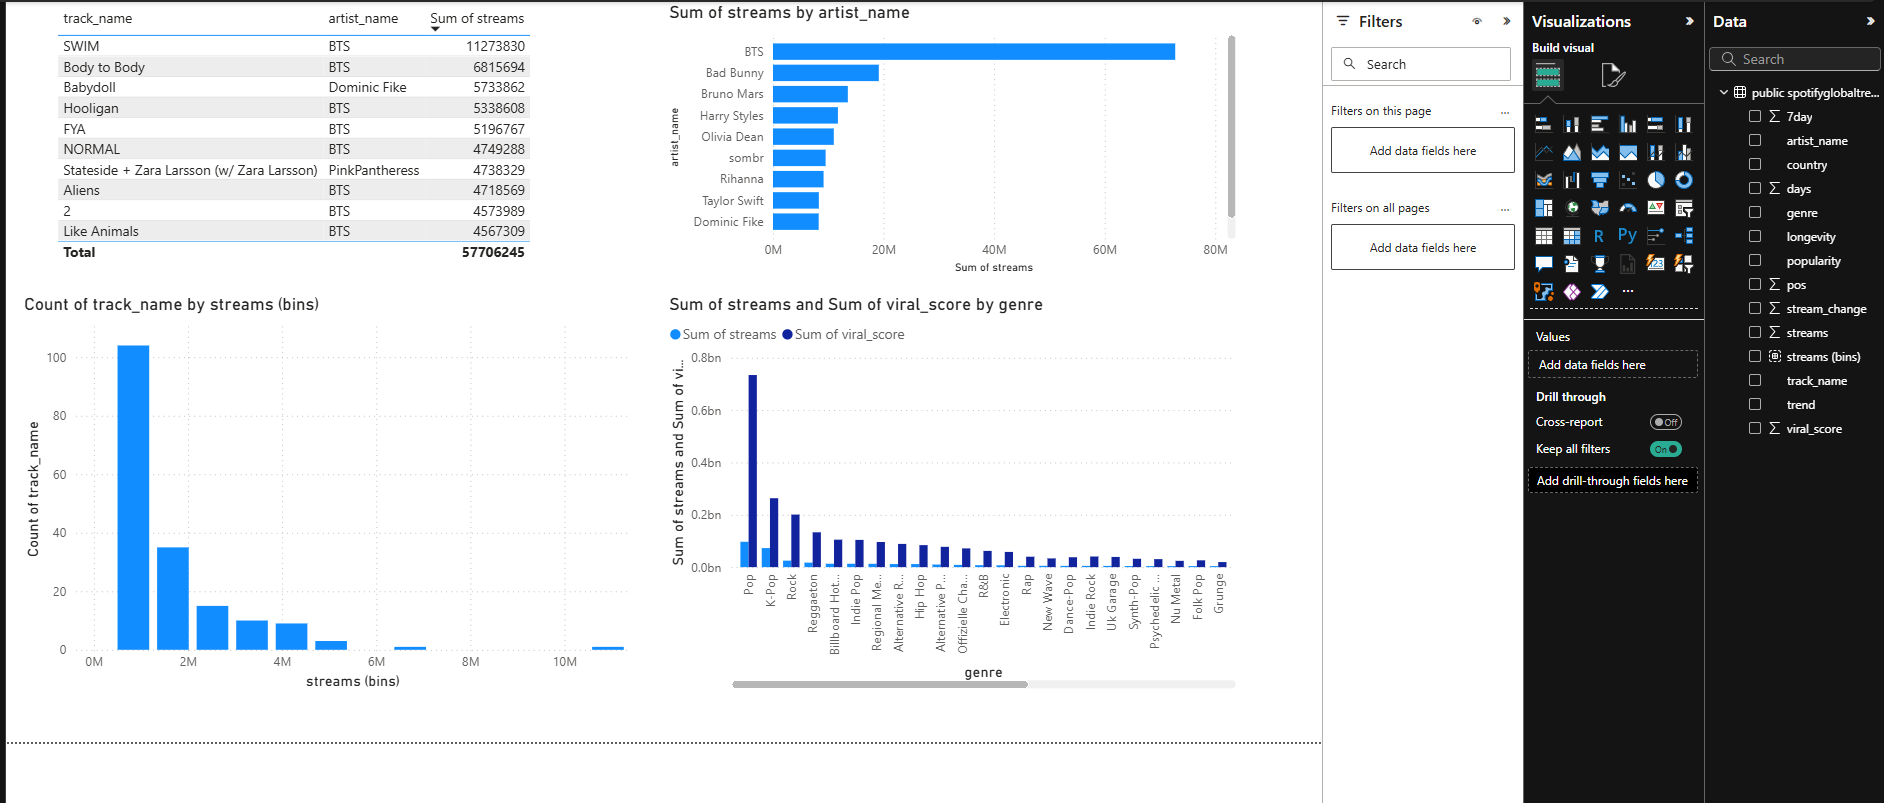

The page's visual inventory and layout, read from the dashboard file:
{"tool":"powerbi","page":{"name":"Page 1","canvas":[1280,720],"ordinal":0},"visuals":[{"type":"tableEx","fields":{"Values":["public spotifyglobaltrends.track_name","public spotifyglobaltrends.artist_name","Sum(public spotifyglobaltrends.streams)"]},"box":[44.7,0,491.2,268.4],"z":0},{"type":"barChart","fields":{"Category":["public spotifyglobaltrends.artist_name"],"Y":["Sum(public spotifyglobaltrends.streams)"]},"box":[640,0,561.2,268.4],"z":1000},{"type":"clusteredColumnChart","fields":{"Category":["public spotifyglobaltrends.streams (bins)"],"Y":["CountNonNull(public spotifyglobaltrends.track_name)"]},"box":[12.6,284,598.2,389.1],"z":2000},{"type":"clusteredColumnChart","fields":{"Category":["public spotifyglobaltrends.genre"],"Y":["Sum(public spotifyglobaltrends.streams)","Sum(public spotifyglobaltrends.viral_score)"]},"box":[640,284,561,389],"z":2001}]}

Visuals, with their boxes in screenshot pixels (x1, y1, x2, y2):
tableEx - public spotifyglobaltrends.track_name x public spotifyglobaltrends.artist_name: bbox(246, 0, 787, 296)
barChart - public spotifyglobaltrends.artist_name x Sum(public spotifyglobaltrends.streams): bbox(902, 0, 1520, 296)
clusteredColumnChart - public spotifyglobaltrends.streams (bins) x CountNonNull(public spotifyglobaltrends.track_name): bbox(210, 313, 869, 742)
clusteredColumnChart - public spotifyglobaltrends.genre x Sum(public spotifyglobaltrends.streams): bbox(902, 313, 1520, 742)
